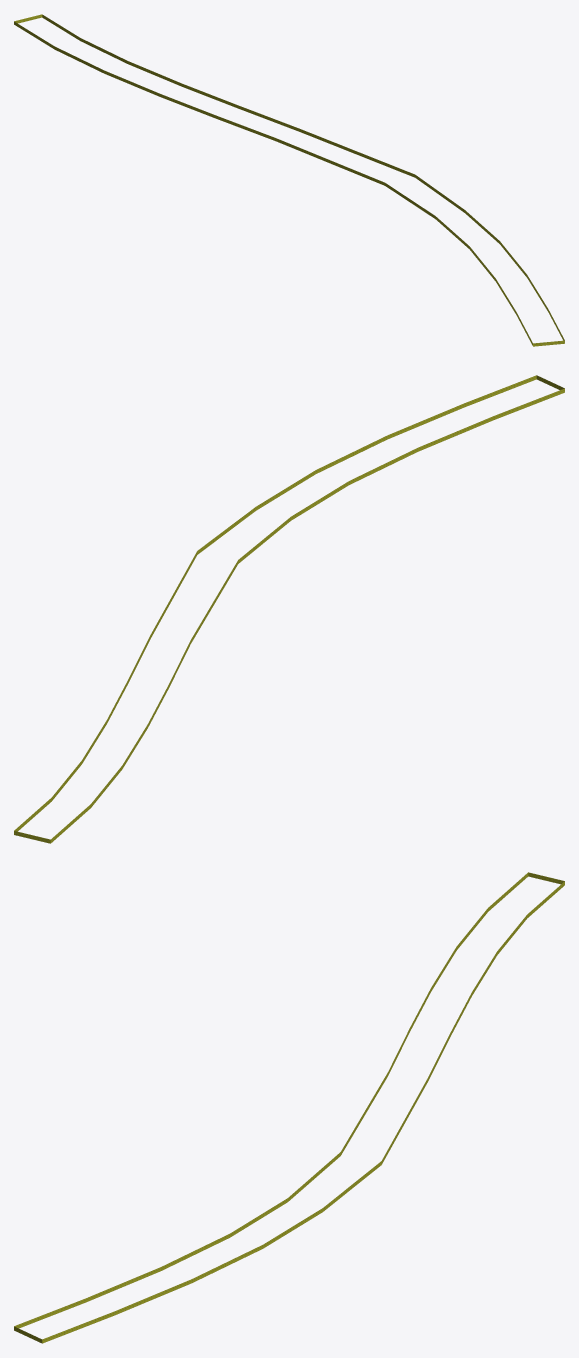
Rendered from aptcanopyday_lvs.obj.
The picture shows the model from 3 angles, top to bottom: view 1: azimuth 30°, elevation 25°; view 2: azimuth 150°, elevation 25°; view 3: azimuth 330°, elevation 25°; orthographic projection. The views are drawn at different scales.
Parts seen in each view (by area): view 1: aptcanopyday_lvs; view 2: aptcanopyday_lvs; view 3: aptcanopyday_lvs.
Part boxes in pixels (x1=…): aptcanopyday_lvs: x1=14, y1=14, x2=564, y2=346; aptcanopyday_lvs: x1=14, y1=375, x2=564, y2=843; aptcanopyday_lvs: x1=14, y1=872, x2=564, y2=1343.
Size of the model in its own units: 25.86 by 0.7397 by 142.
1 material, 1 textured.
